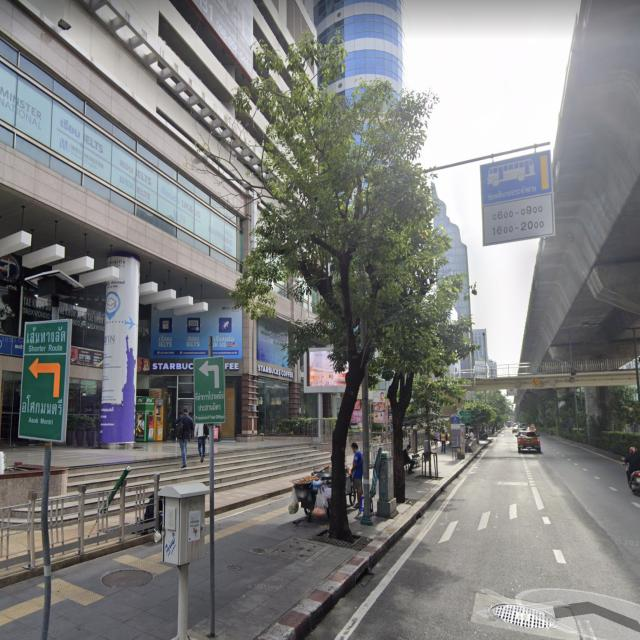tree: (232, 36, 458, 548), (343, 246, 443, 513), (464, 387, 512, 448)
